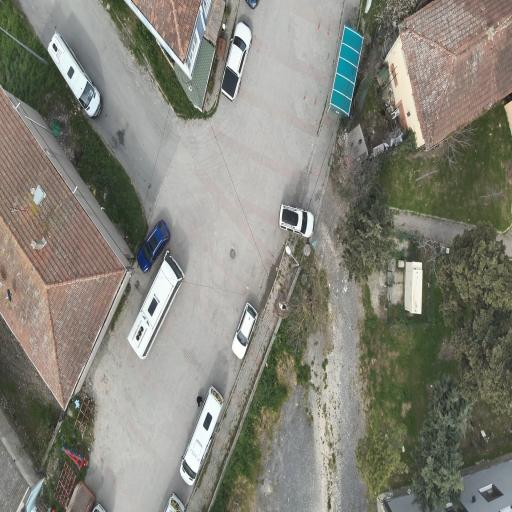car: (127, 251, 183, 359), (48, 32, 102, 117), (180, 386, 224, 486), (221, 21, 251, 100), (137, 219, 169, 272), (232, 302, 257, 358), (280, 203, 314, 236), (164, 493, 184, 511), (92, 503, 105, 511), (246, 0, 258, 8)
person: (196, 396, 203, 408)
